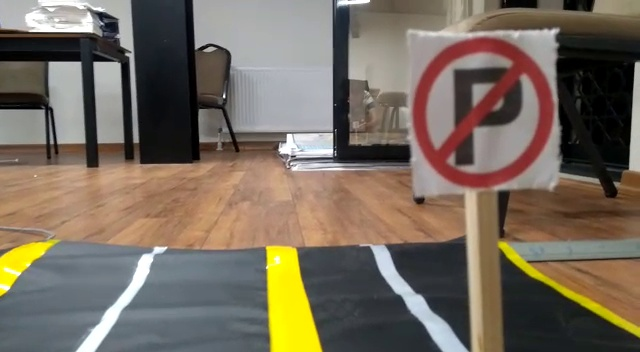park_yapilmaz: (408, 35, 556, 186)
